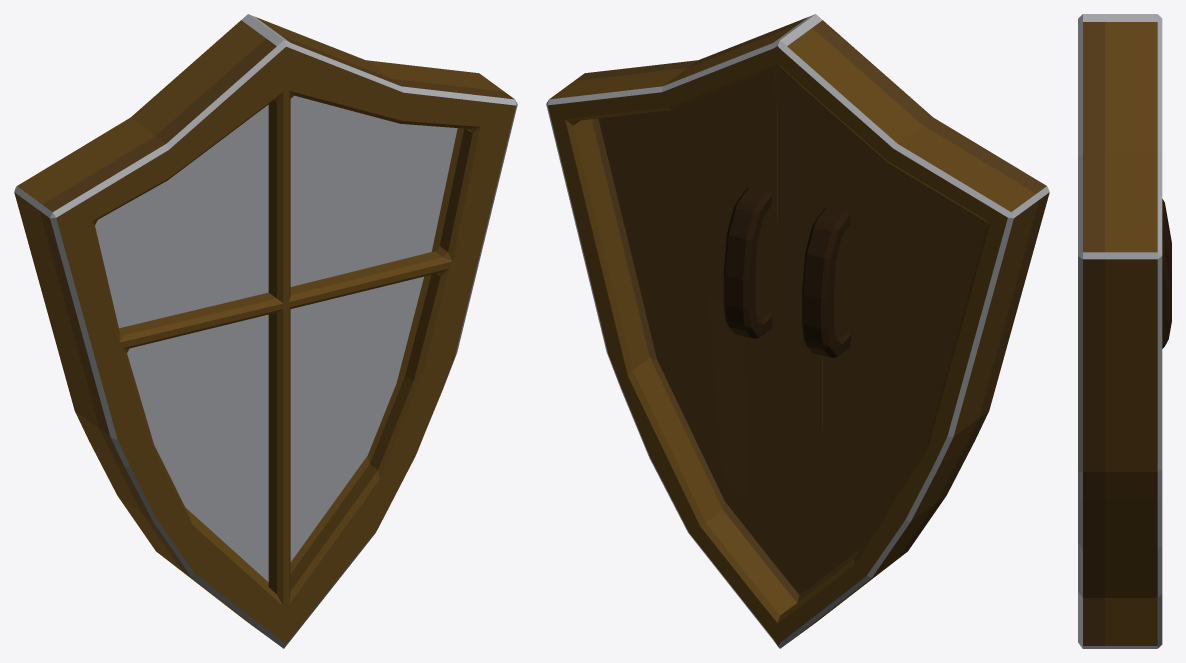
File: Escudo.fbx
3 renders of one model, left to right at view 1: azimuth 30°, elevation 25°; view 2: azimuth 150°, elevation 25°; view 3: azimuth 270°, elevation 25°, orthographic. The views are drawn at different scales.
Parts seen in each view (by area): view 1: Cube; view 2: Cube; view 3: Cube.
Boxes of the visible parts, <box> form: Cube: <box>14,14,517,648</box>; Cube: <box>546,14,1049,648</box>; Cube: <box>1078,14,1171,648</box>.
Size of the model in its own units: 199 by 248 by 33.19.
